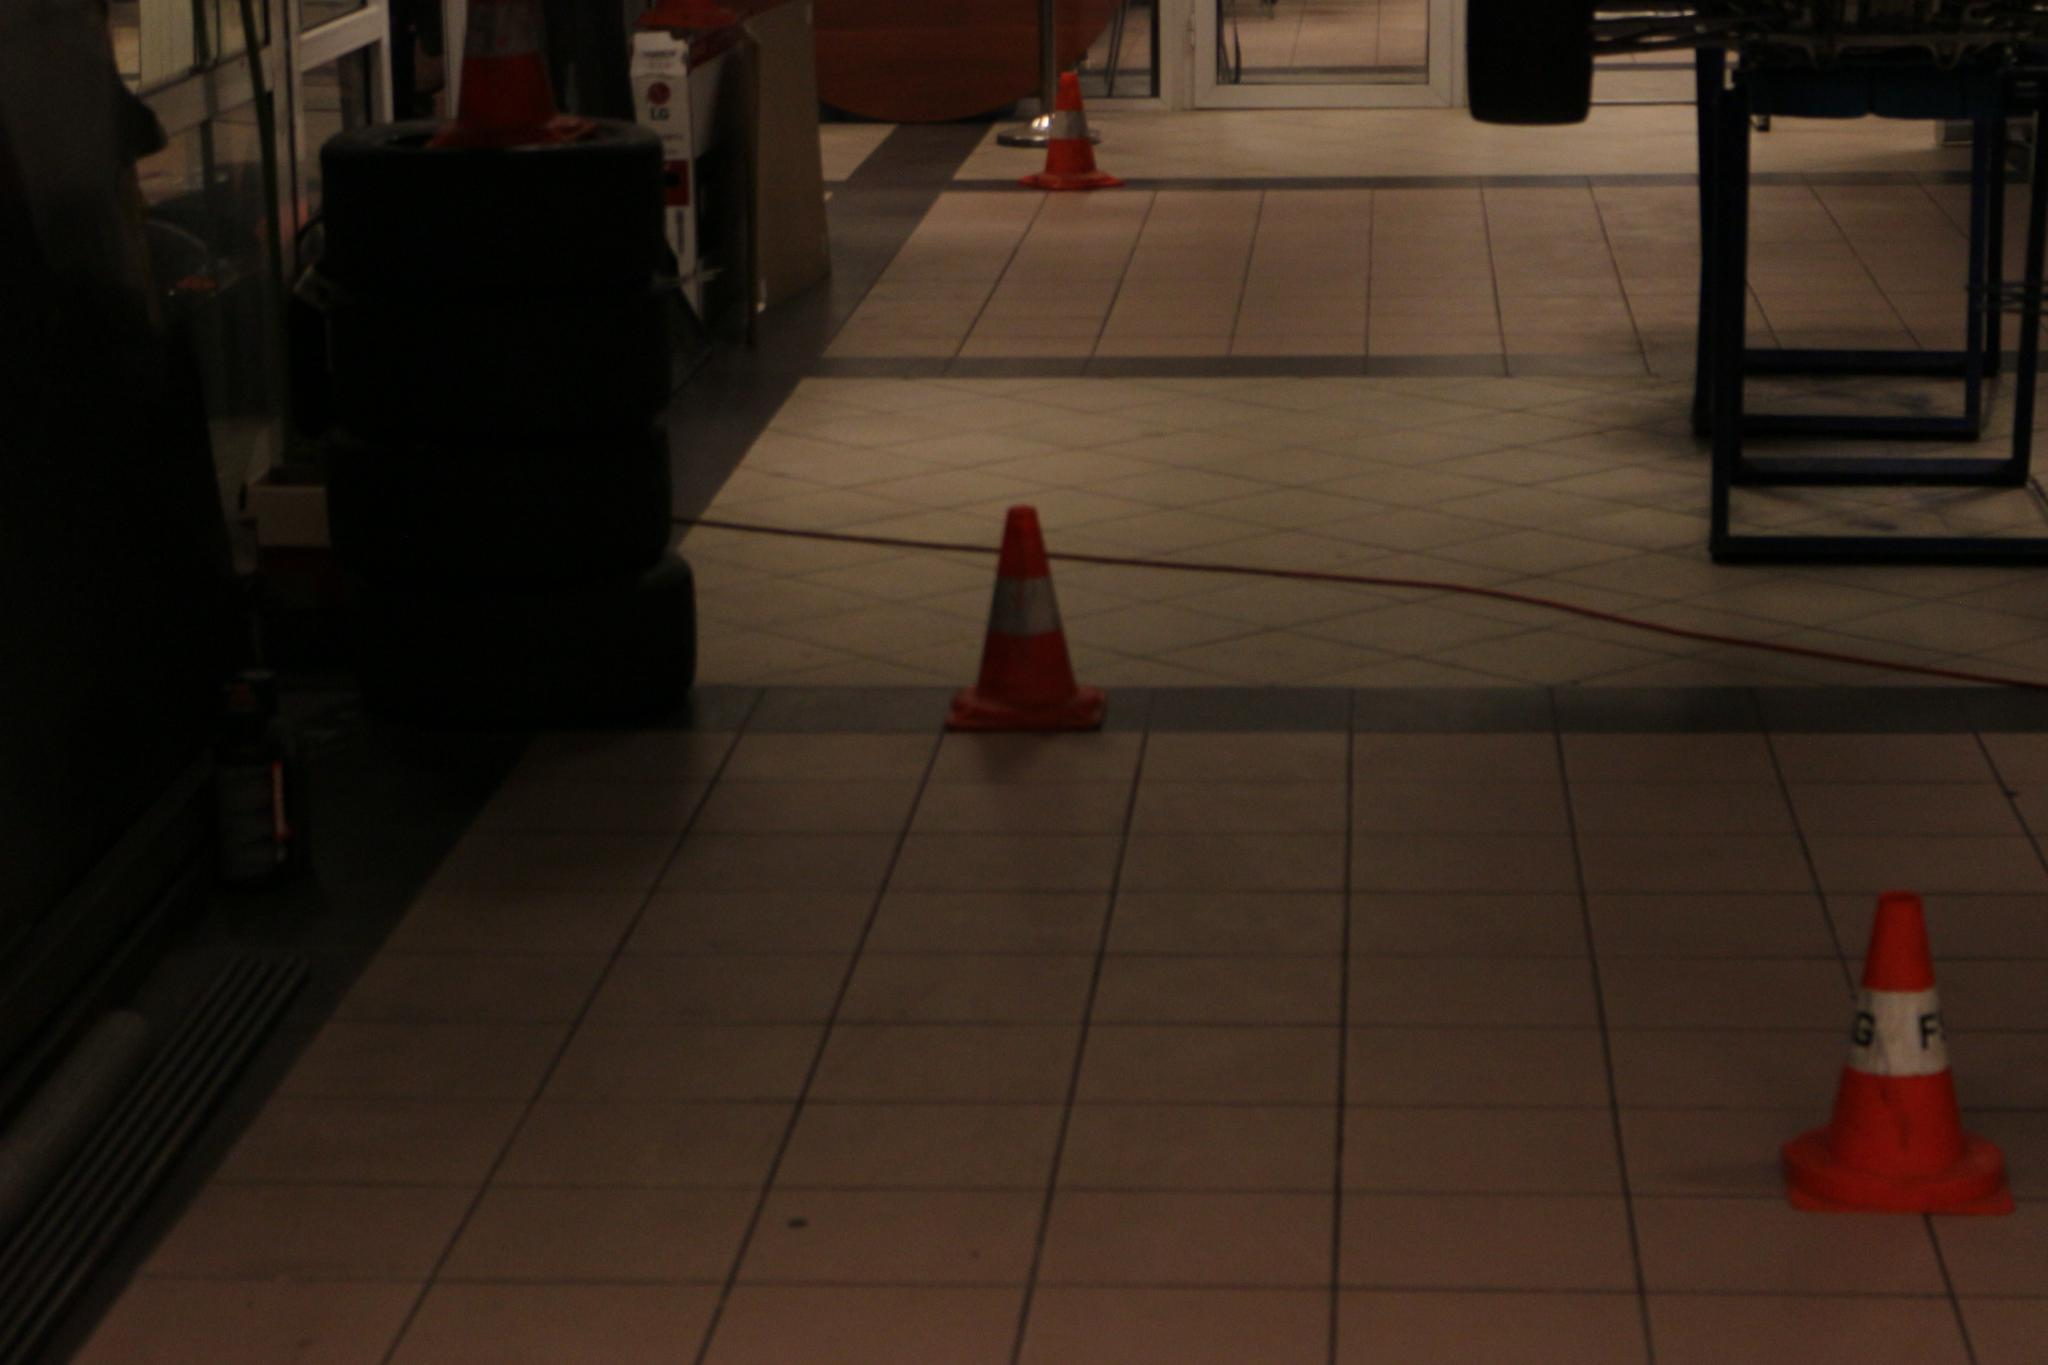Orange_Cone: (1783, 874, 2015, 1223), (936, 498, 1110, 742), (1028, 70, 1118, 201)
